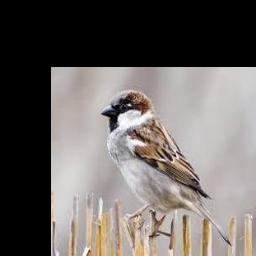Sparrow: (100, 89, 232, 246)
